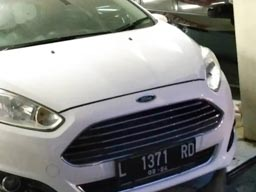plat: (109, 140, 195, 187)
